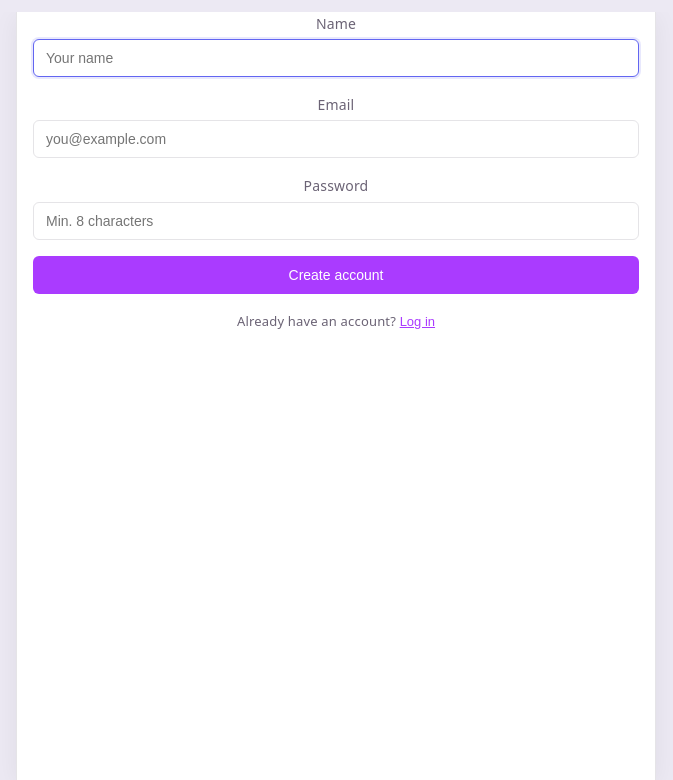
it: RegisterForm › 409 response › shows 'An account with this email already exists' inline error
Step 1. Type "Test User" into the field labelled "Name" → (336, 58), box 33,39 -> 639,77
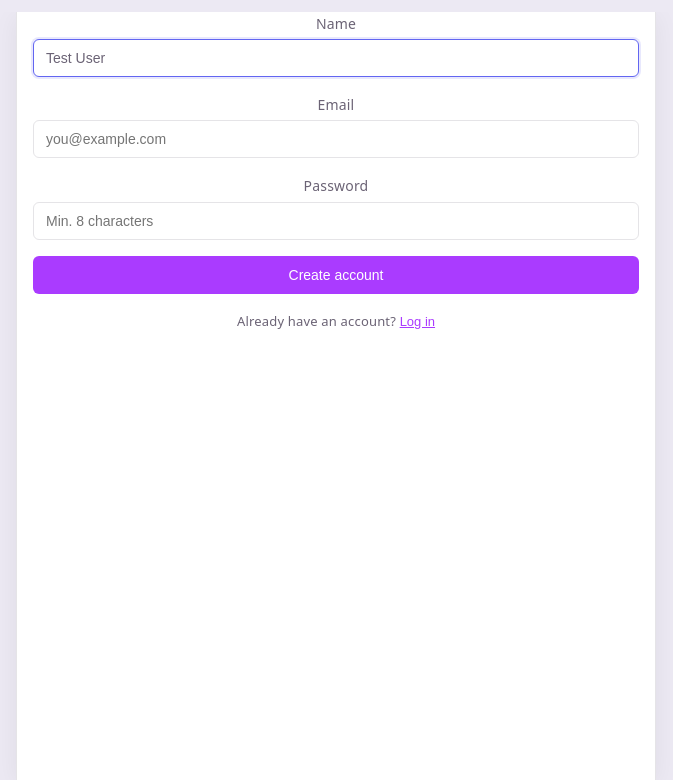
Step 2. Type "taken@example.com" into the field labelled "Email" → (336, 139), box 33,120 -> 639,158
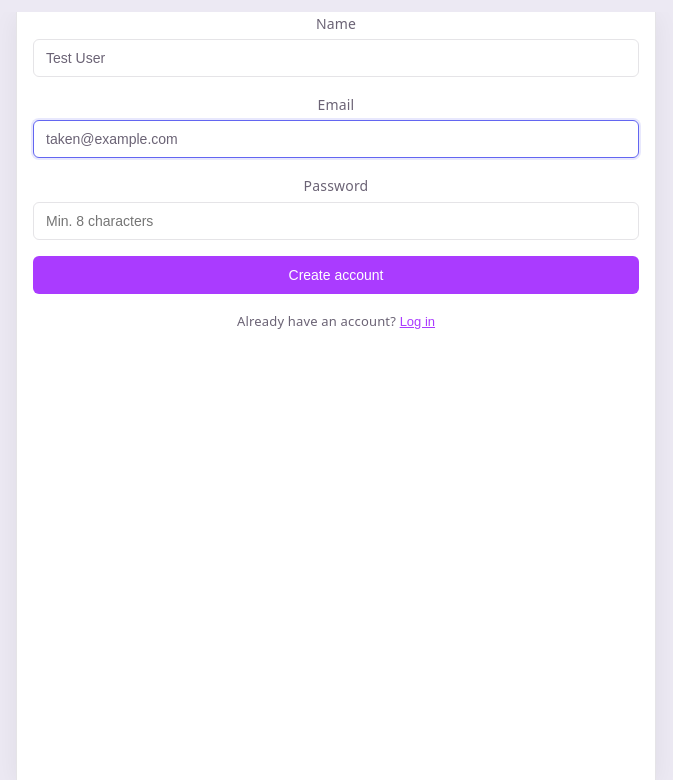
Step 3. Type "password123" into the password field labelled "Password" → (336, 221), box 33,202 -> 639,240
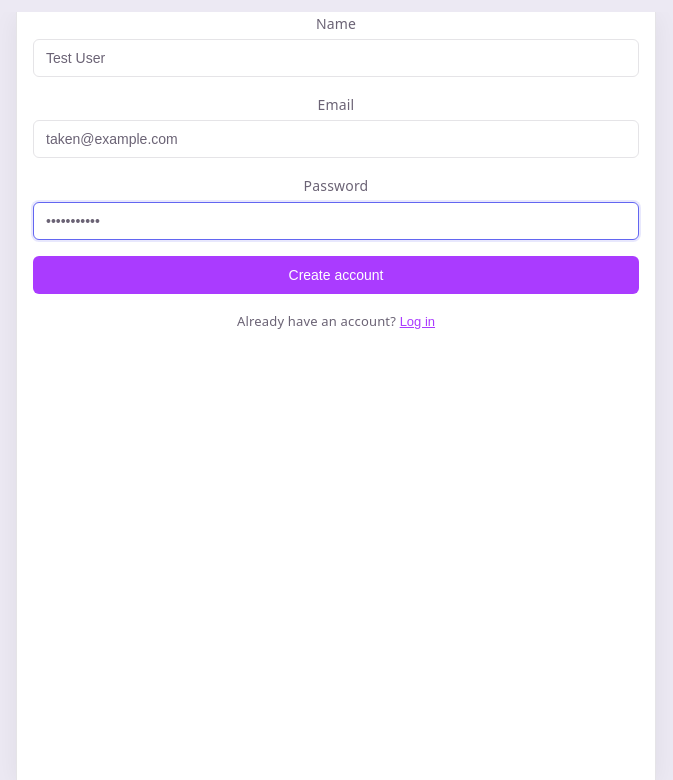
Step 4. Click the button "Create account" → (336, 275), box 33,256 -> 639,294
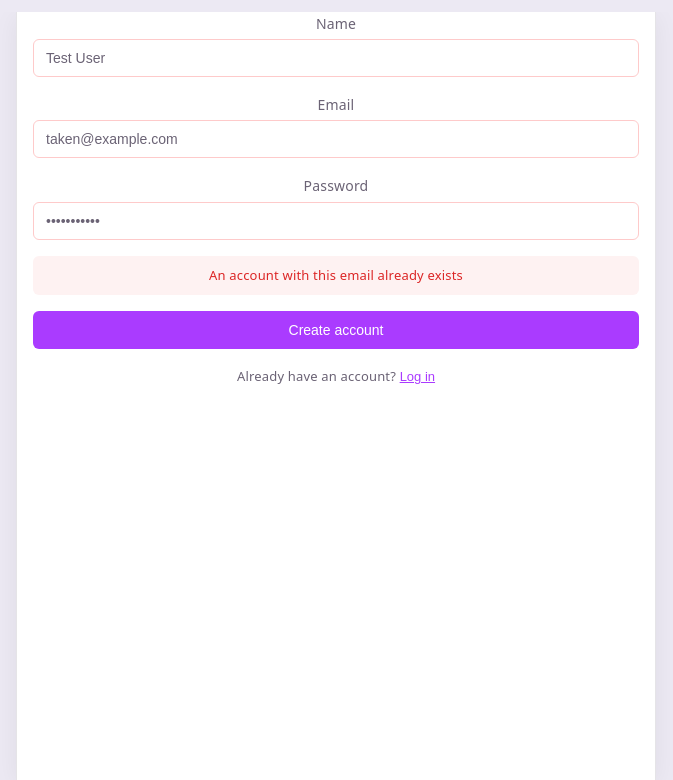
Expected: the message reads "An account with this email already exists", 209,266 -> 463,284
